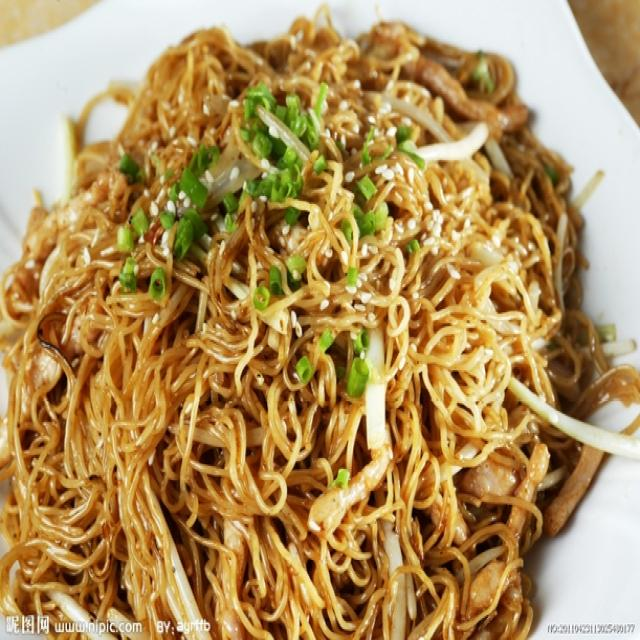面条主食: (7, 27, 599, 621)
